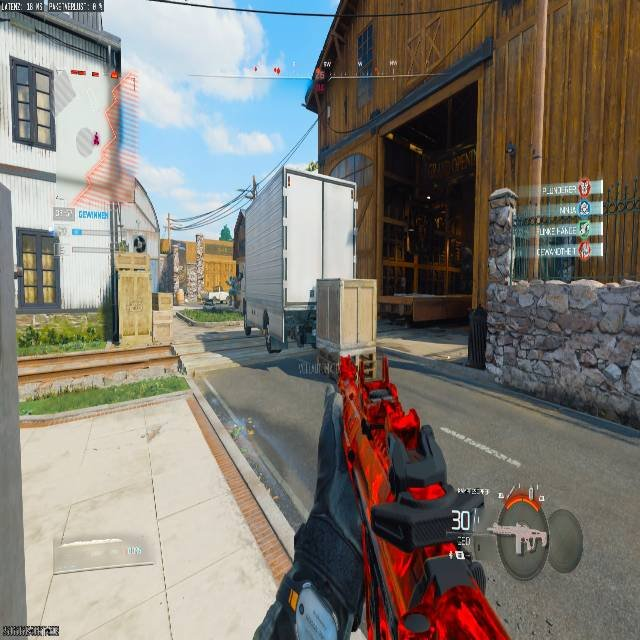player: (225, 275, 239, 306)
